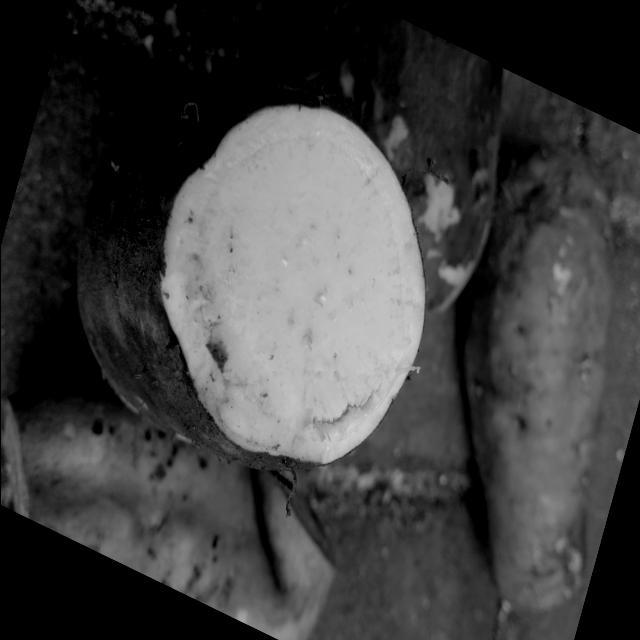Healthy Sweet Potato: (161, 107, 424, 463)
